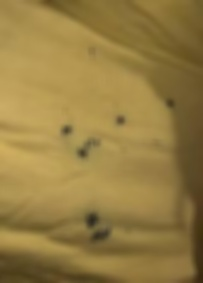ink: (78, 140, 100, 159), (93, 231, 111, 242), (84, 213, 97, 226), (62, 126, 71, 135), (166, 98, 173, 107), (118, 116, 124, 124)
